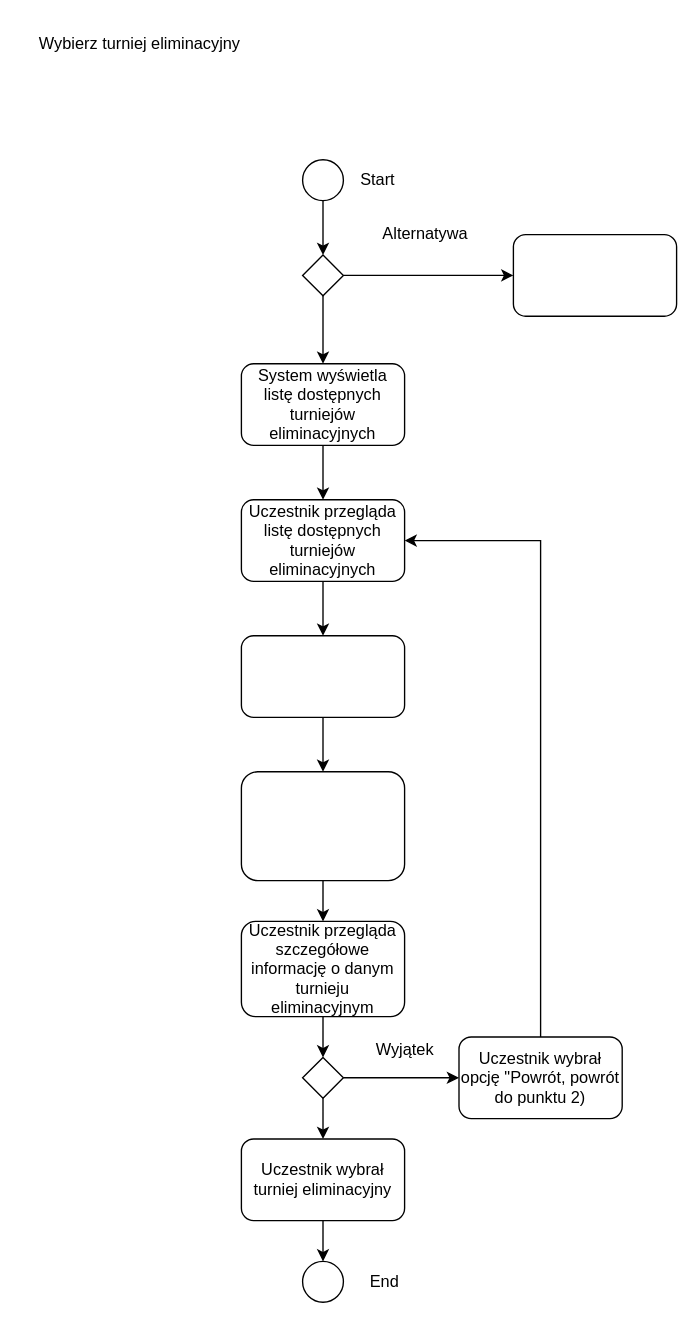
Image size: 700x1326. Some labels were removed from this diagram. The shapes that lost their labels are listed below. From the top down, each one's centre as x and y in pixels, then its label:
[594,274]: System wyświetla informację o braku dostępnych turniejów eliminacyjncyh
[322,675]: Uczestnik wybiera opcję "Zobacz więcej" przy danym turnieju
[322,825]: System wyświetla szczegółowe informację o danym turnieju eliminacyjcnym
